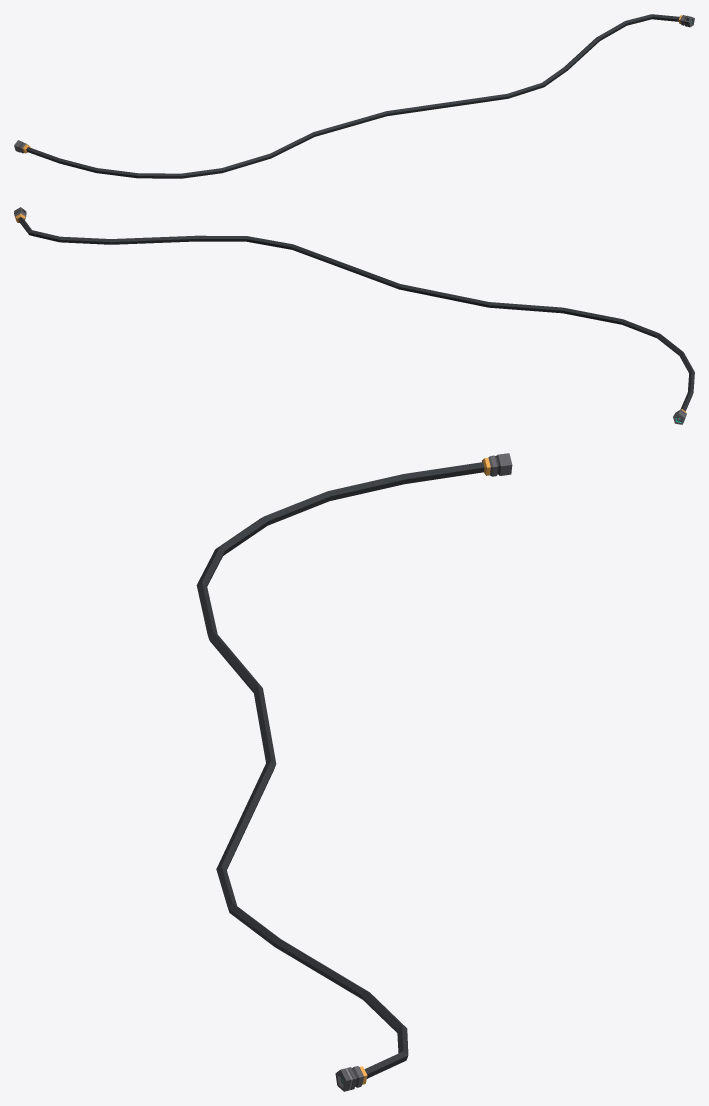
The model's file is SM_Prop_Wires_16.fbx.
3 renders of one model, top to bottom at view 1: azimuth 30°, elevation 25°; view 2: azimuth 150°, elevation 25°; view 3: azimuth 270°, elevation 25°, orthographic. The views are drawn at different scales.
Parts seen in each view (by area): view 1: SM_Prop_Wires_16; view 2: SM_Prop_Wires_16; view 3: SM_Prop_Wires_16.
Boxes of the visible parts, box(x1,y1,x2,y2) form: SM_Prop_Wires_16: box(14, 14, 694, 178); SM_Prop_Wires_16: box(14, 207, 694, 424); SM_Prop_Wires_16: box(196, 453, 512, 1091).
Bounding box in the file's own units: 1084 × 15.86 × 231.
